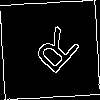R: (25, 25, 83, 83)
